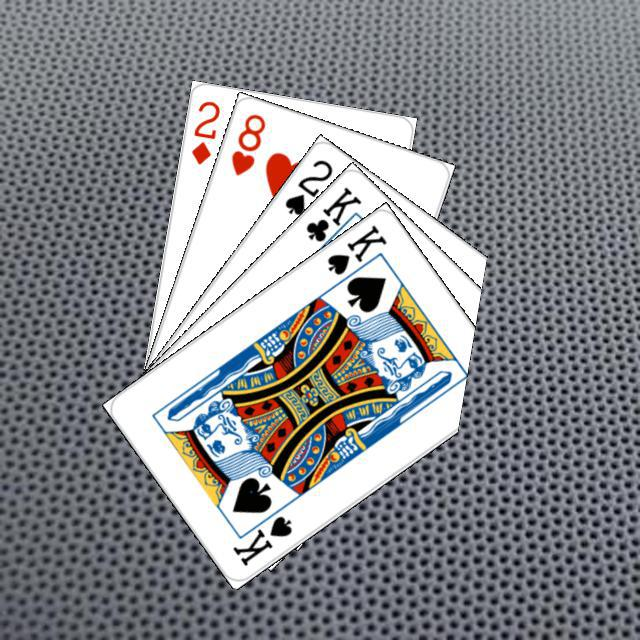2d: (186, 96, 222, 167)
2s: (279, 154, 335, 217)
8h: (226, 108, 267, 178)
Kc: (301, 181, 364, 257)
Ks: (227, 499, 294, 568), (322, 220, 389, 277)
